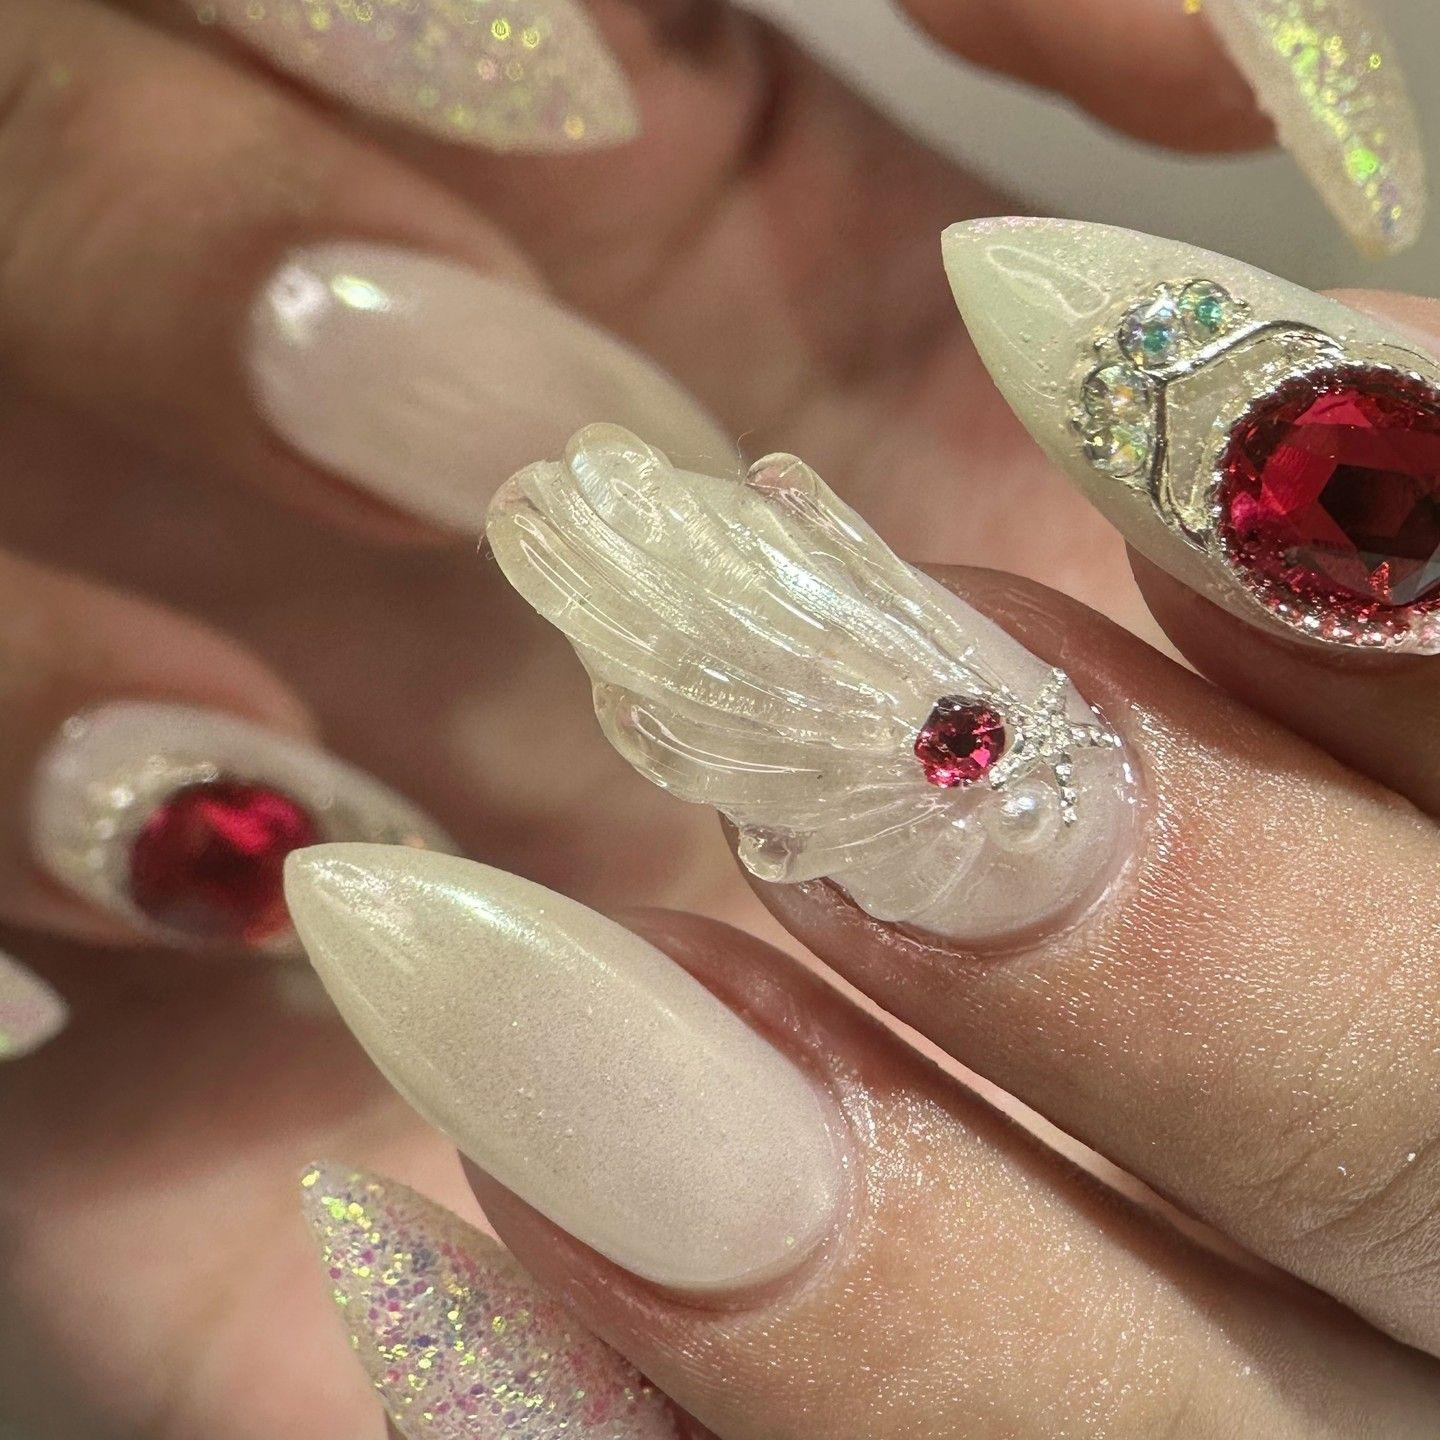nail: (280, 837, 855, 1304), (938, 211, 1437, 662), (295, 1156, 713, 1437), (22, 695, 459, 957)
